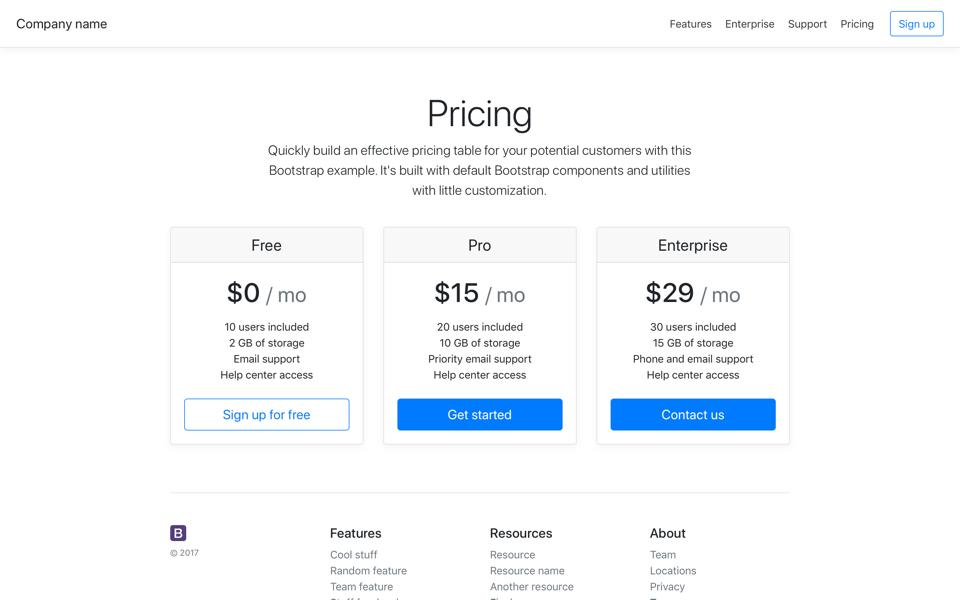button: (392, 398, 572, 438), (176, 394, 353, 433), (889, 8, 947, 41)
